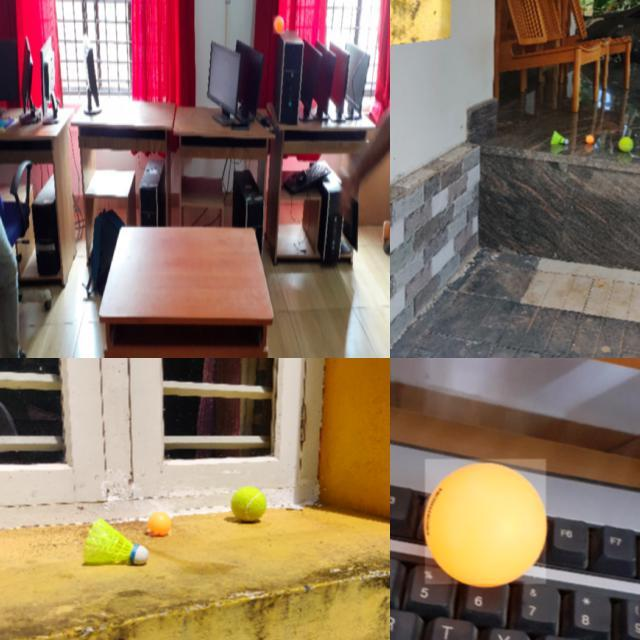ping-pong-ball: (424, 460, 548, 584), (148, 511, 172, 537), (272, 15, 286, 36), (586, 135, 594, 143)
